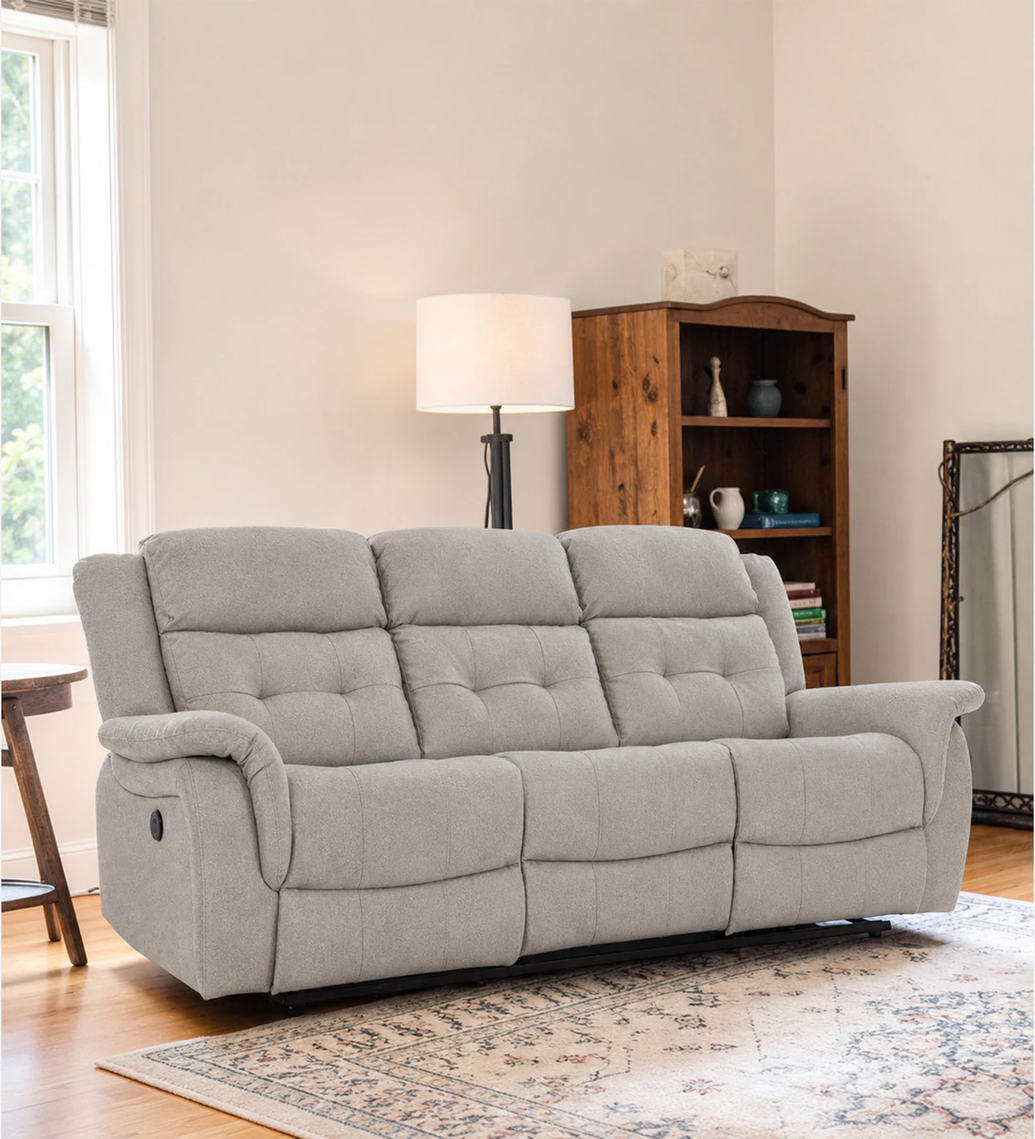3seatersofa: (75, 525, 982, 1006)
backrest: (143, 526, 786, 765)
leftarmrest: (742, 554, 982, 911)
leg: (271, 919, 890, 1011)
rightarmrest: (73, 554, 291, 996)
seat: (276, 733, 932, 989)
